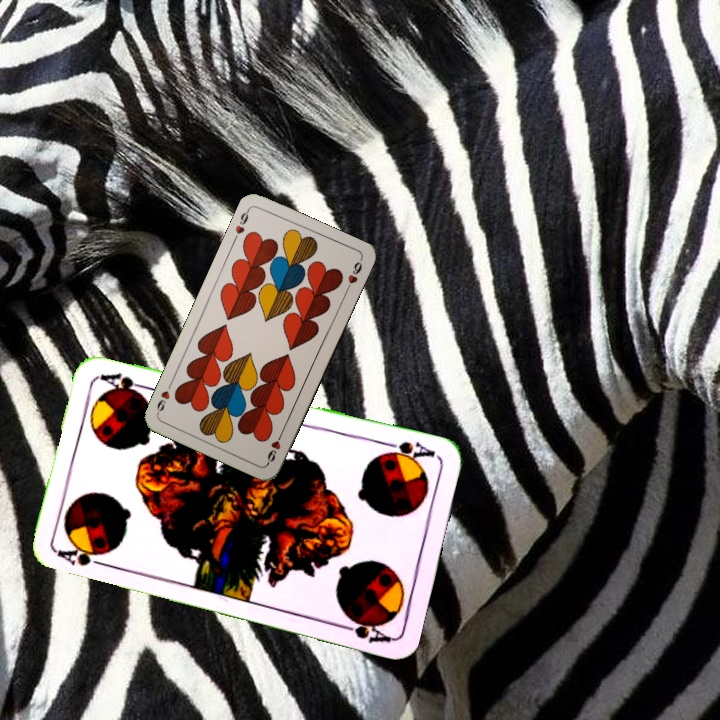H9: (263, 427, 286, 466), (229, 205, 252, 244)
SA: (378, 437, 438, 466), (54, 544, 112, 570)
